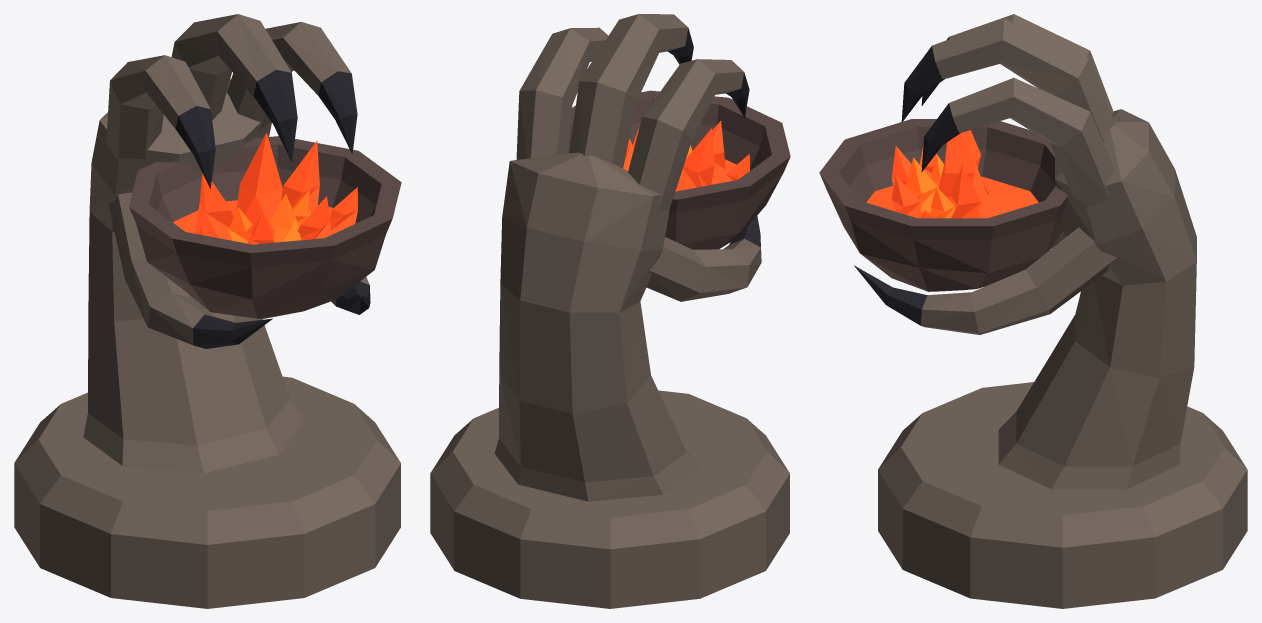
The model's file is dragonfire-brazier-6bc2ce.glb.
The picture shows the model from 3 angles, left to right: view 1: azimuth 30°, elevation 25°; view 2: azimuth 150°, elevation 25°; view 3: azimuth 270°, elevation 25°; orthographic projection. The views are drawn at different scales.
Parts seen in each view (by area): view 1: claw, breath; view 2: claw, breath; view 3: claw, breath.
Boxes of the visible parts, <box> form: claw: <box>14,14,401,608</box>; breath: <box>173,132,357,244</box>; claw: <box>430,14,790,608</box>; breath: <box>623,121,749,191</box>; claw: <box>819,14,1247,608</box>; breath: <box>866,130,1038,218</box>.
Bounding box in the file's own units: 1.04 × 1.59 × 1.2.
